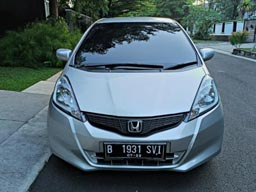plat: (105, 141, 166, 154)
